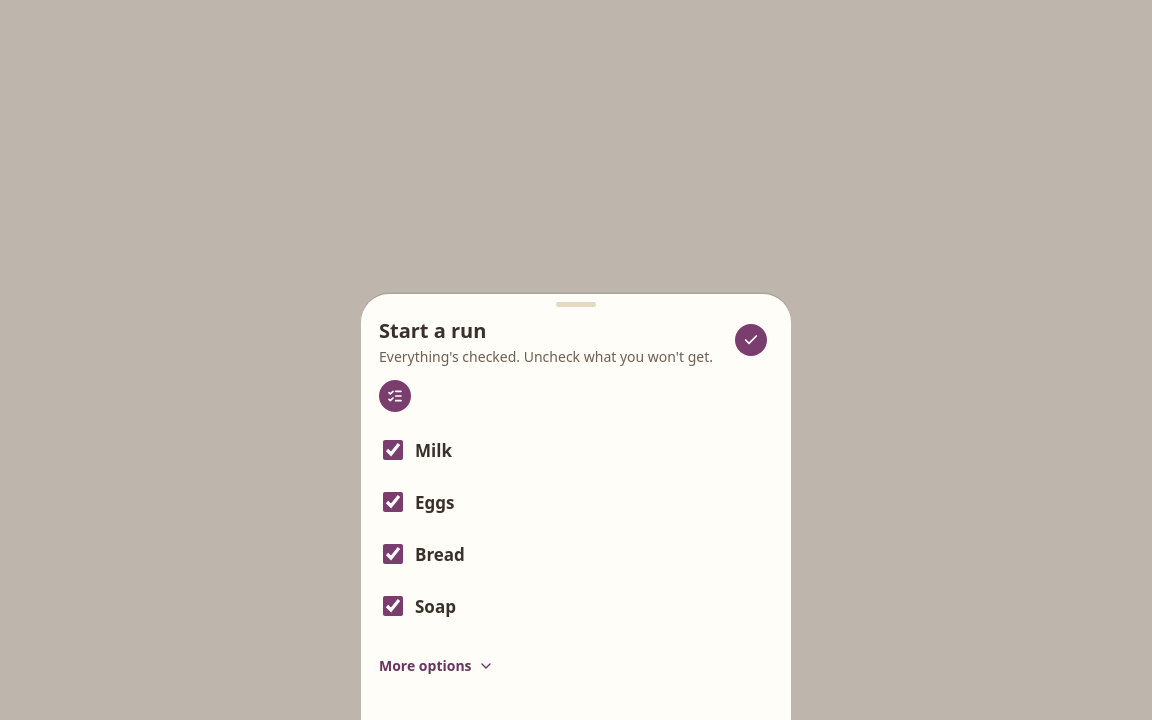
Scenario: A grocery run in few taps (T44) › finishes with no cost when the amount is empty, and holds Finish on something that is not an amount
The image size is (1152, 720).
Expected: the button named "Start run · 4 things" is shown, [729, 318, 773, 362]
Click the button "More options" at point(436, 666), box [379, 644, 494, 688]
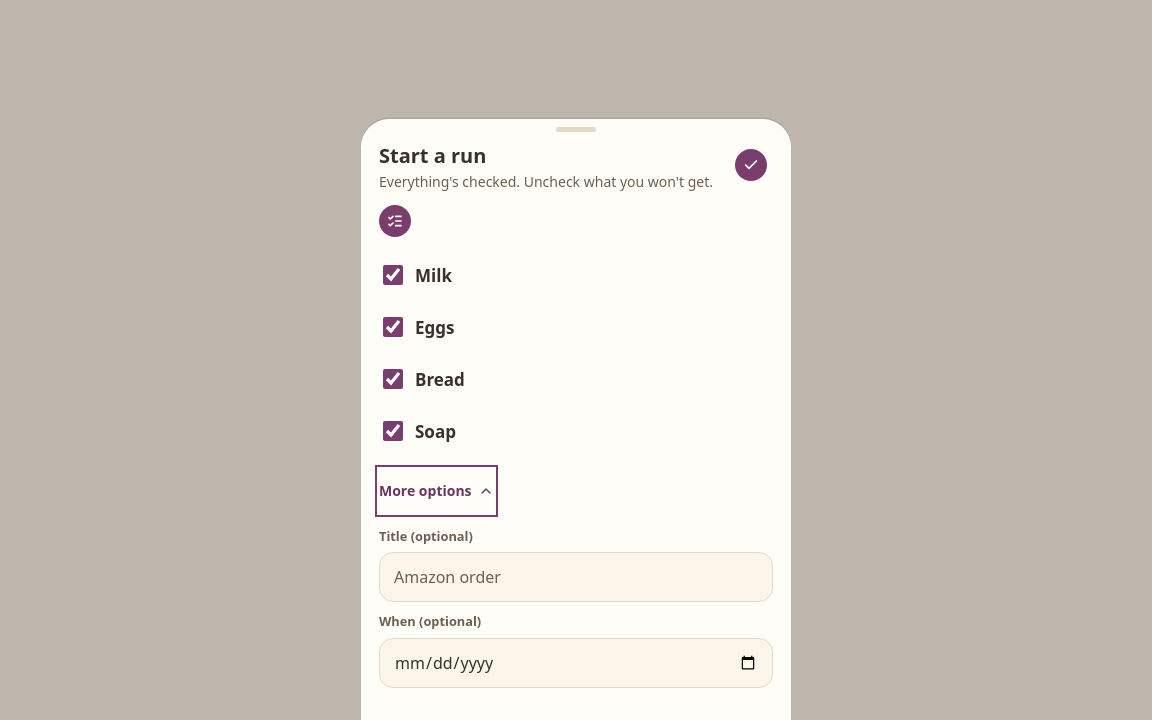
Type "Groceries" into the field labelled "Title (optional)" at point(576, 578), box [379, 553, 773, 603]
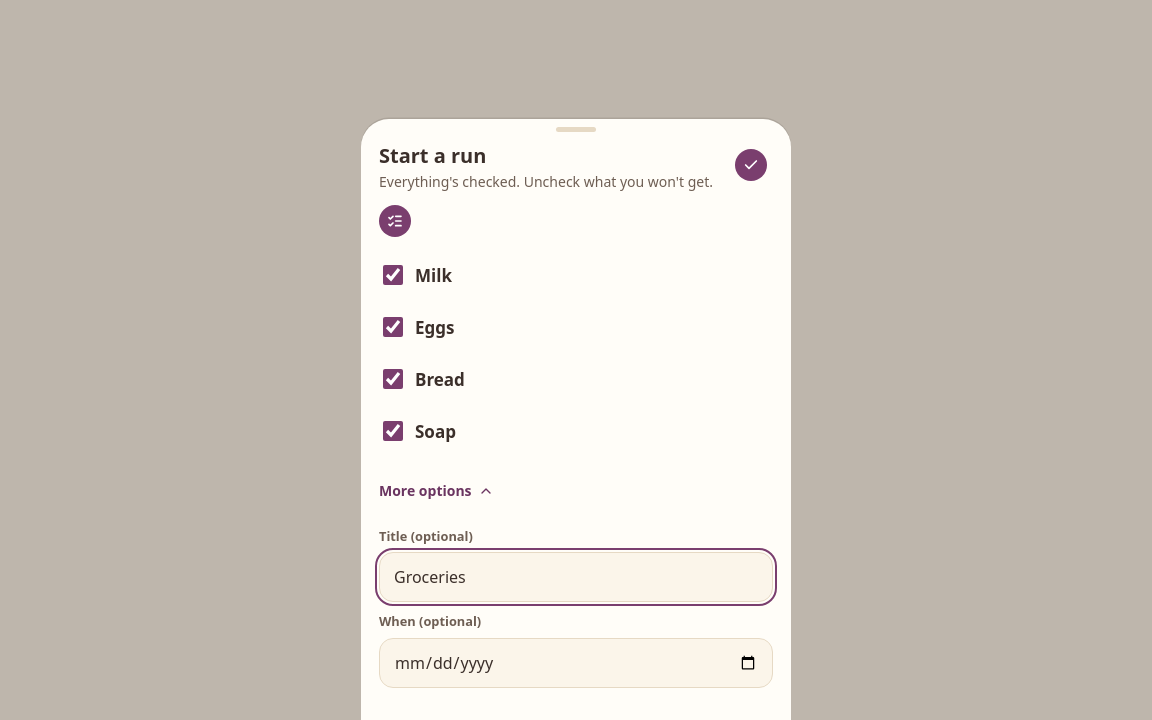
Click the button named "Start run · 4 things" at point(751, 165), box [729, 143, 773, 187]
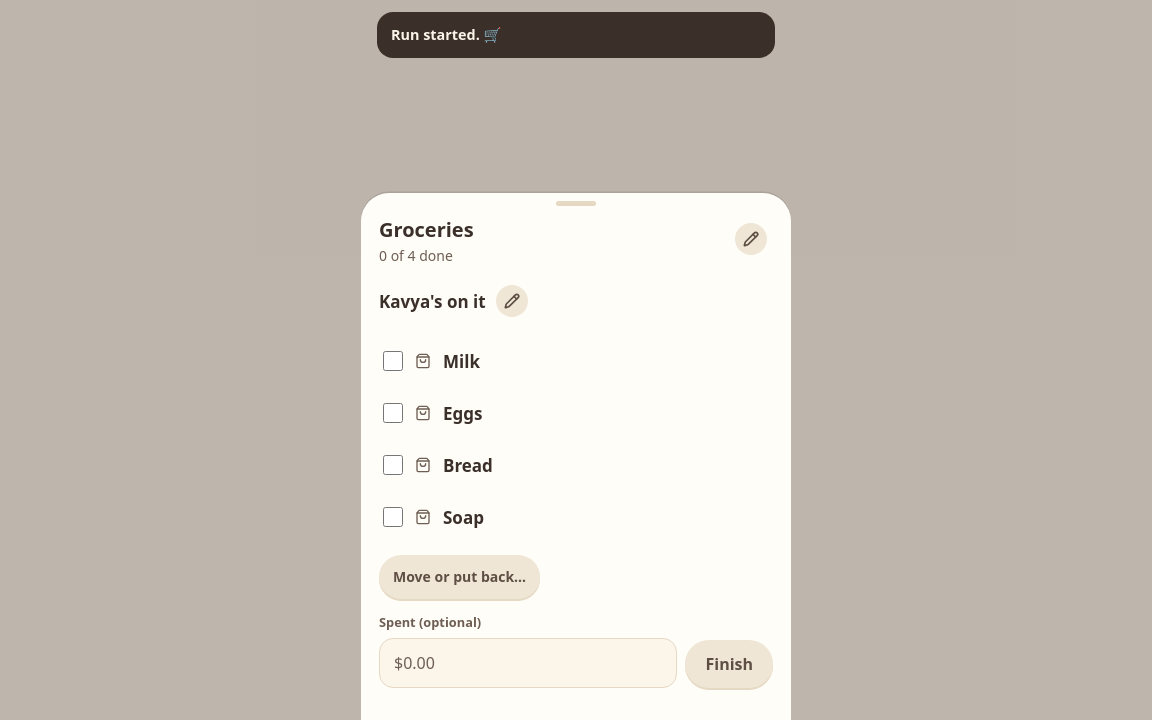
Type "forty" into the field labelled "Spent (optional)" at point(528, 663), box [379, 638, 678, 688]
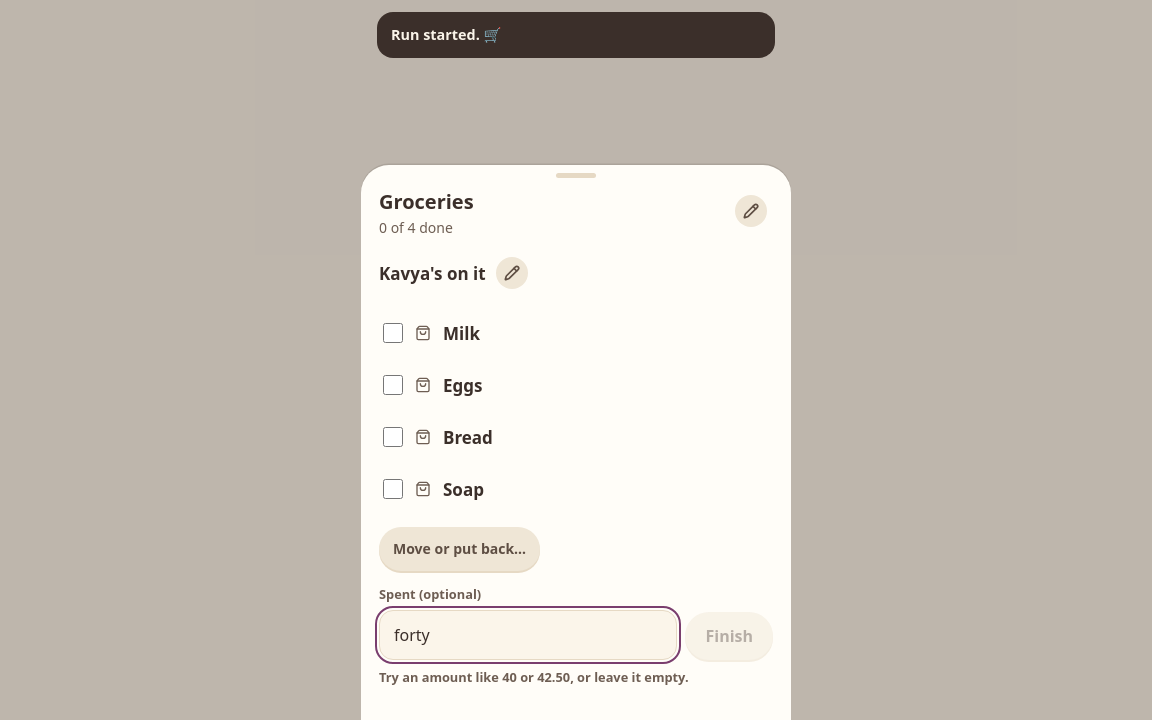
Now the button "Finish" is disabled, box [686, 613, 773, 661]
Clear the field labelled "Spent (optional)" at point(528, 636), box [379, 611, 678, 661]
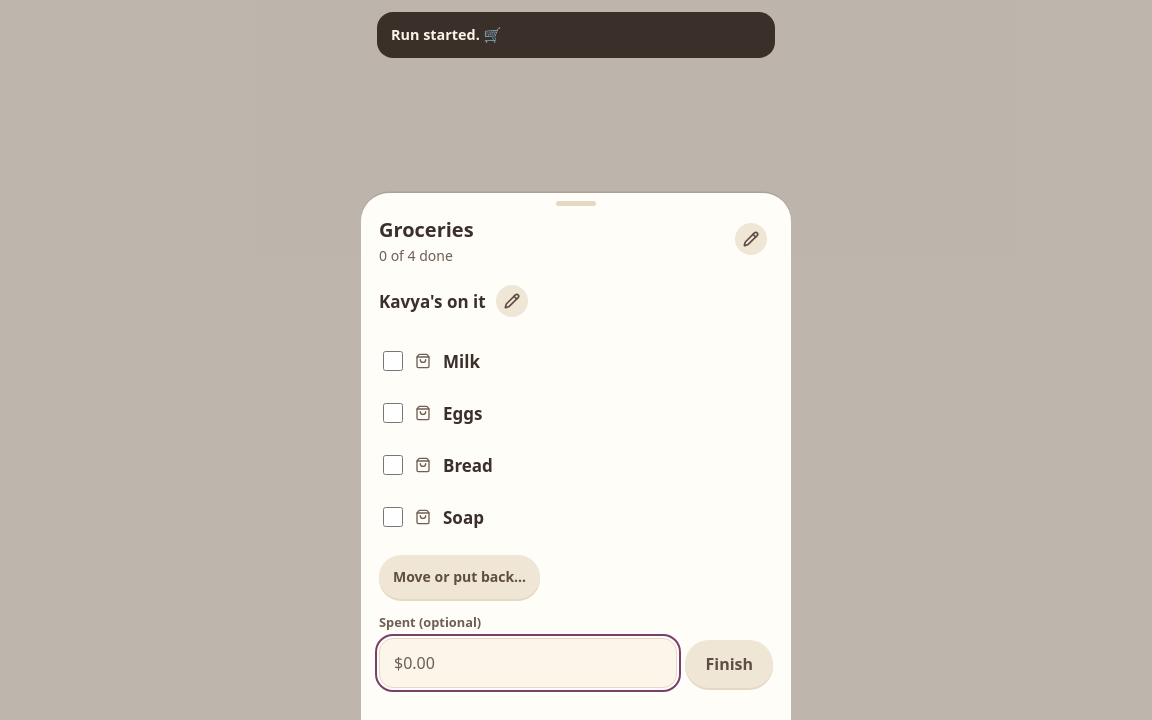
Click the button "Finish" at point(729, 664), box [686, 640, 773, 688]
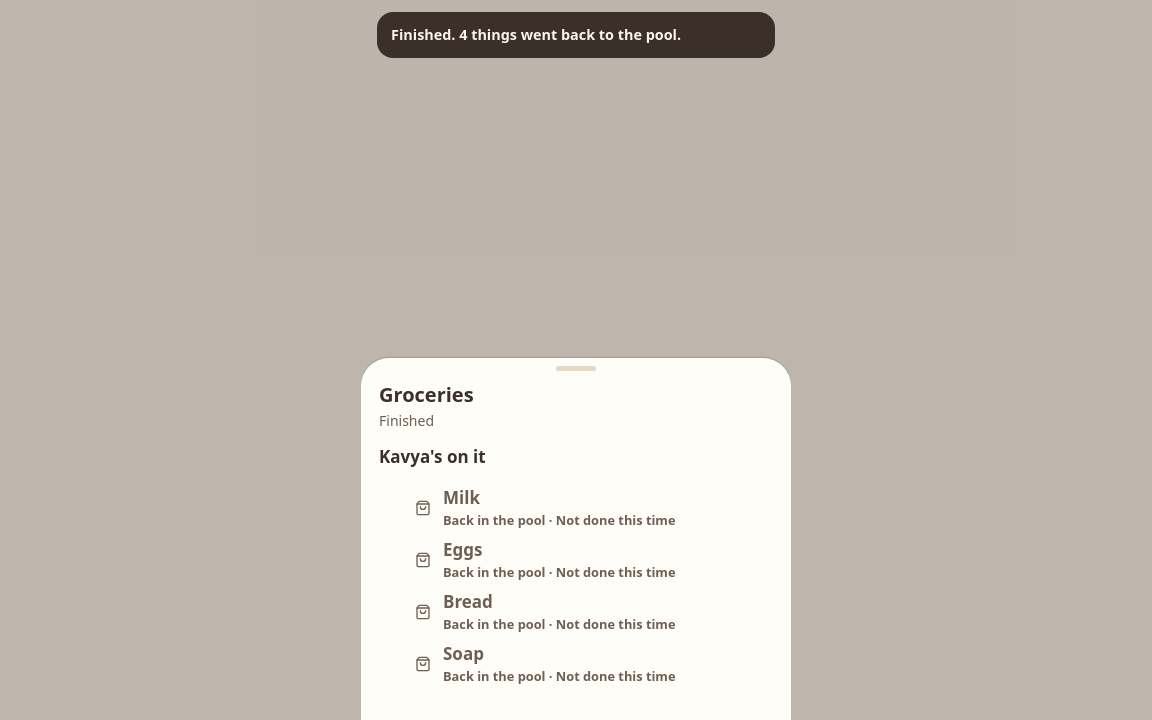
Now the text "Finished. 4 things went back to the pool." is shown, box [391, 24, 681, 46]
